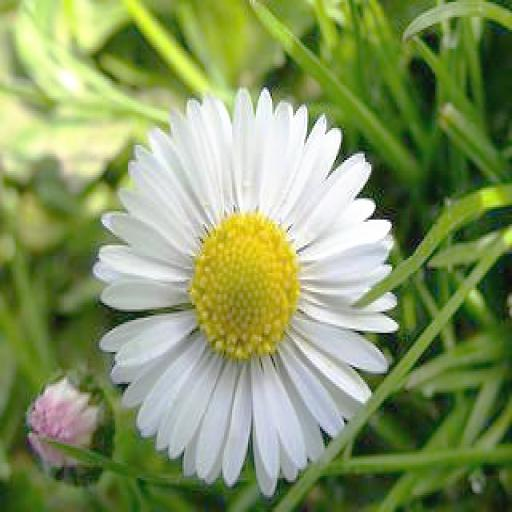daisy: (102, 102, 392, 478)
